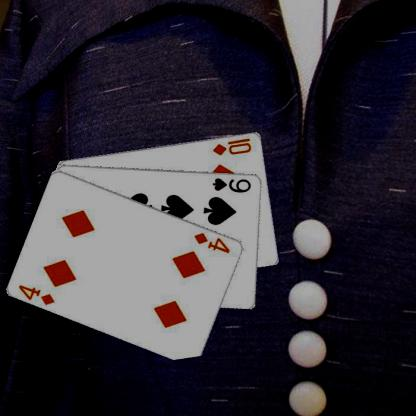10D: (210, 135, 254, 156)
4D: (16, 282, 57, 306), (192, 230, 232, 254)
9S: (210, 175, 252, 194)
